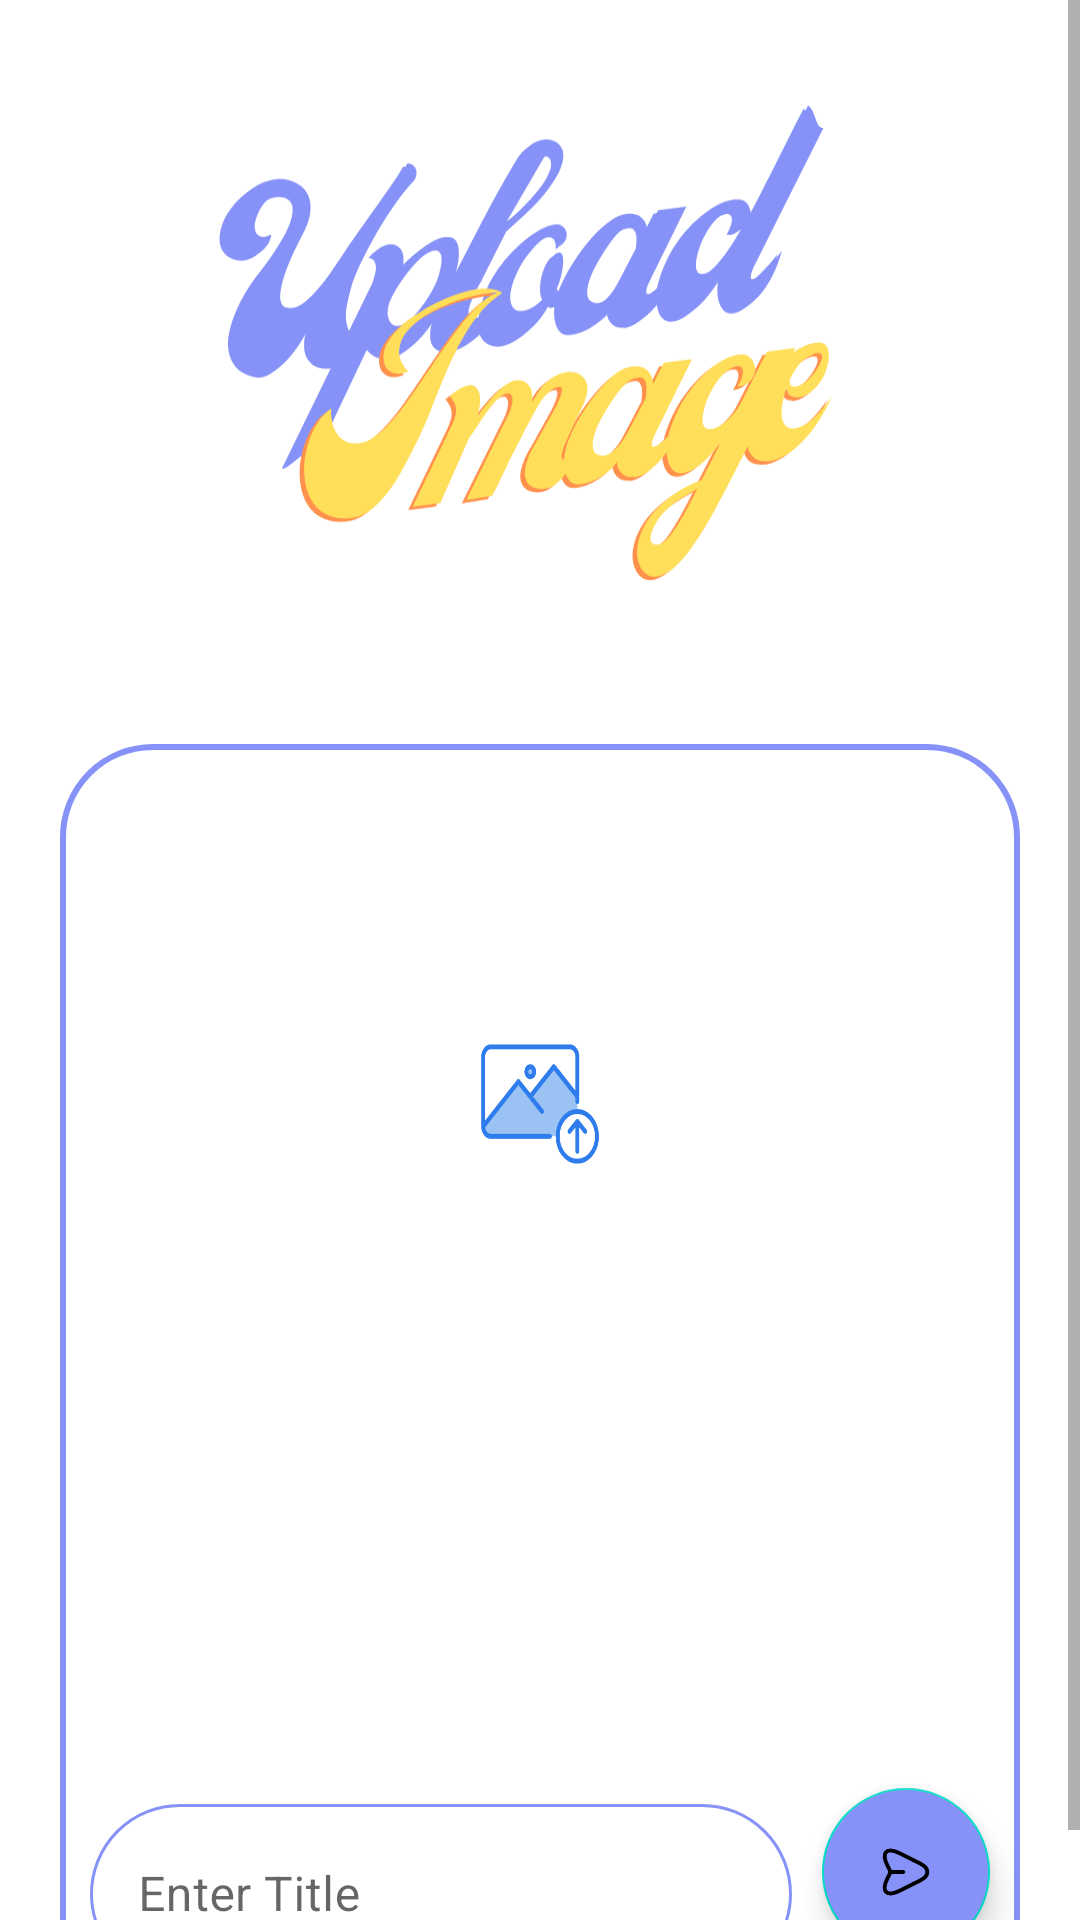

Where to tap for icons on this 1080*1920 app screen, as point (x, y):
uplaod: point (540, 1104)
